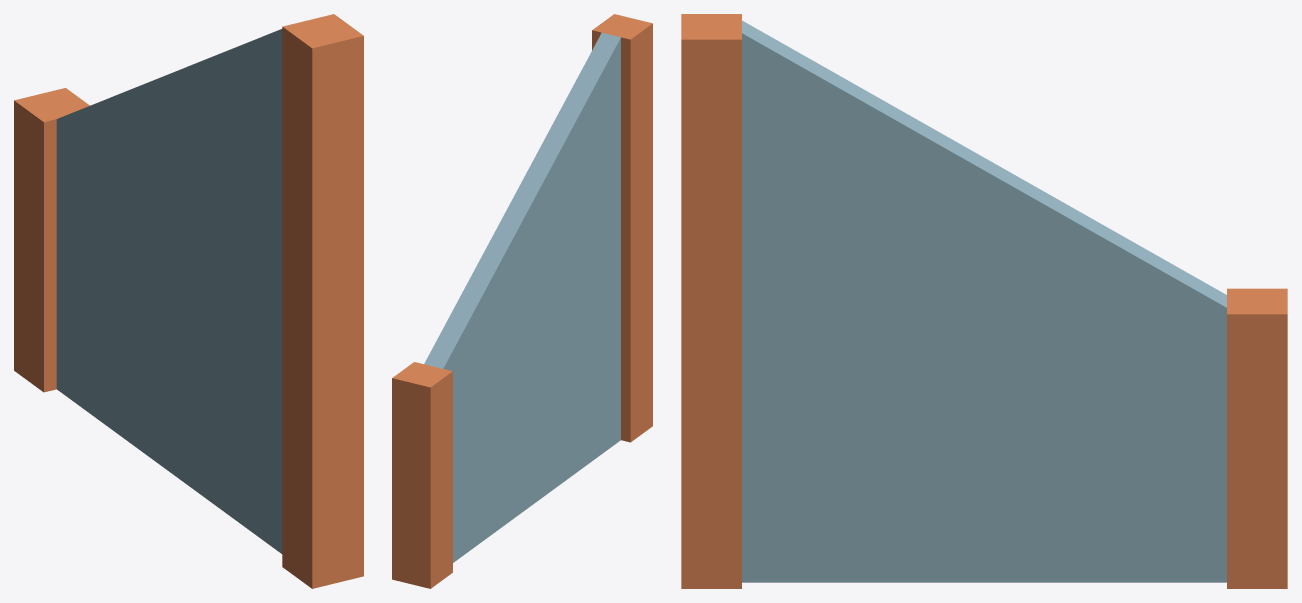
The model's file is wallSlope.fbx.
The picture shows the model from 3 angles, left to right: view 1: azimuth 30°, elevation 25°; view 2: azimuth 150°, elevation 25°; view 3: azimuth 270°, elevation 25°; orthographic projection. The views are drawn at different scales.
Parts seen in each view (by area): view 1: wallSlope; view 2: wallSlope; view 3: wallSlope.
Part boxes in pixels (x1,y1,x2,y2): wallSlope: (14, 14, 363, 588); wallSlope: (392, 14, 652, 588); wallSlope: (681, 14, 1287, 588).
Size of the model in its own units: 1 by 10 by 10.
